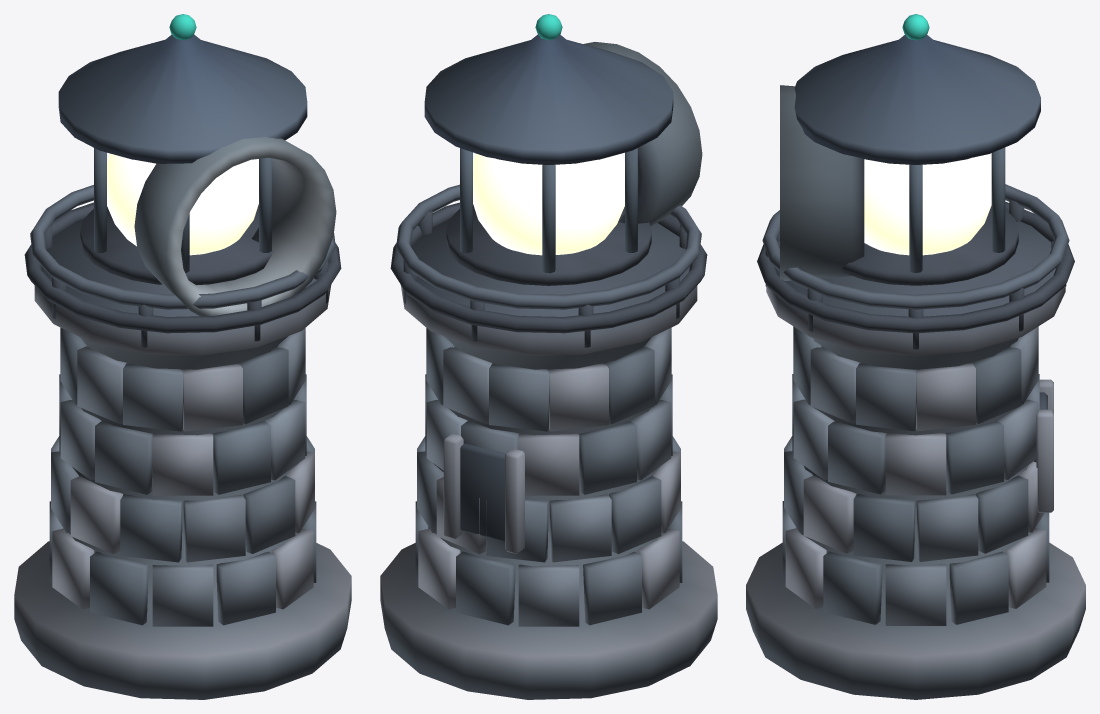
The model's file is arma-luz.glb.
3 views of the same model, side by side, from view 1: azimuth 30°, elevation 25°; view 2: azimuth 150°, elevation 25°; view 3: azimuth 270°, elevation 25° (orthographic).
Parts seen in each view (by area): view 1: Tower, Lamp, Roof; view 2: Tower, Lamp, Roof; view 3: Tower, Lamp, Roof.
Part boxes in pixels (x1,y1,x2,y2): Tower: [14, 185, 351, 699]; Lamp: [80, 137, 336, 316]; Roof: [58, 14, 307, 163]; Tower: [380, 184, 717, 699]; Lamp: [446, 42, 702, 285]; Roof: [424, 14, 673, 163]; Tower: [746, 184, 1085, 699]; Lamp: [780, 85, 1018, 285]; Roof: [794, 14, 1040, 163].
Size of the model in its own units: 0.5 by 1 by 0.5.
